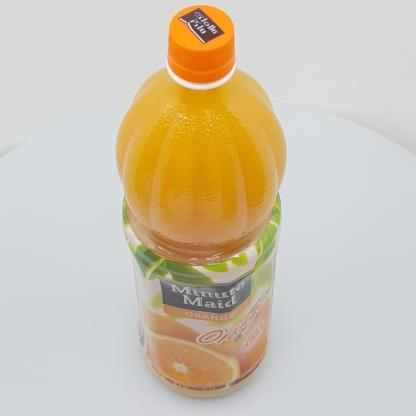-----------1-5L: (115, 5, 287, 398)
